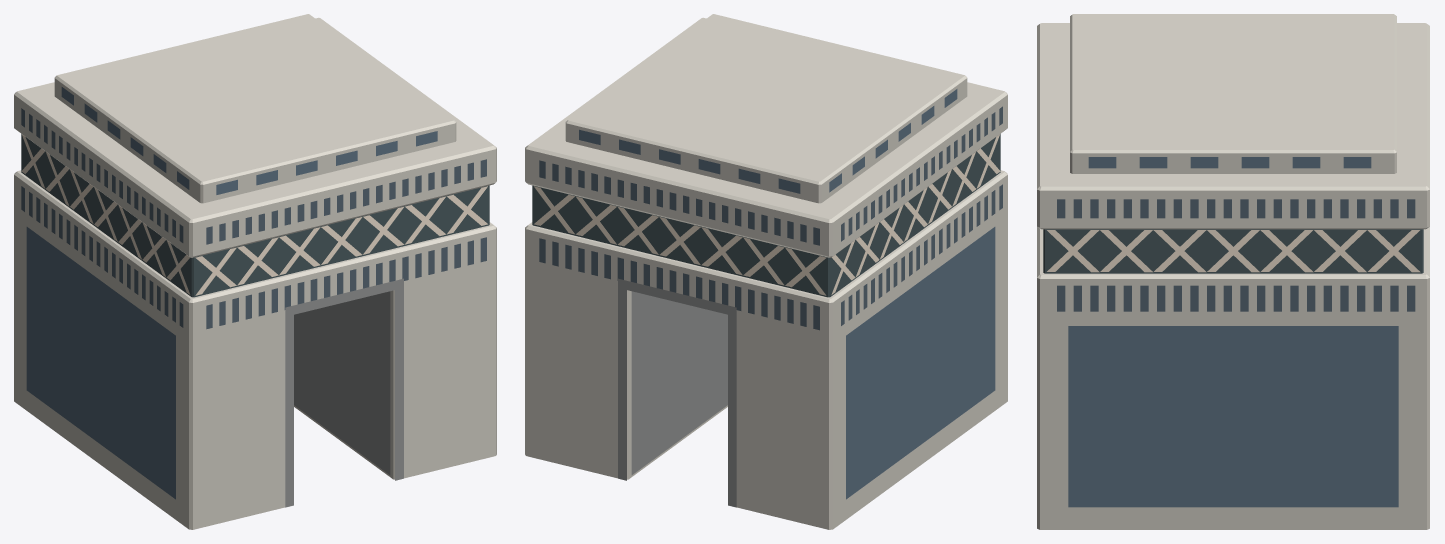
The model's file is dubai-gate-building.glb.
The picture shows the model from 3 angles, left to right: view 1: azimuth 30°, elevation 25°; view 2: azimuth 150°, elevation 25°; view 3: azimuth 270°, elevation 25°; orthographic projection. The views are drawn at different scales.
Parts seen in each view (by area): view 1: The Gate; view 2: The Gate; view 3: The Gate.
Part boxes in pixels (box(x1,y1,x2,y2)): The Gate: box(14, 14, 496, 529); The Gate: box(525, 14, 1007, 529); The Gate: box(1037, 14, 1429, 529).
Bounding box in the file's own units: 62.62 × 64 × 62.66.
